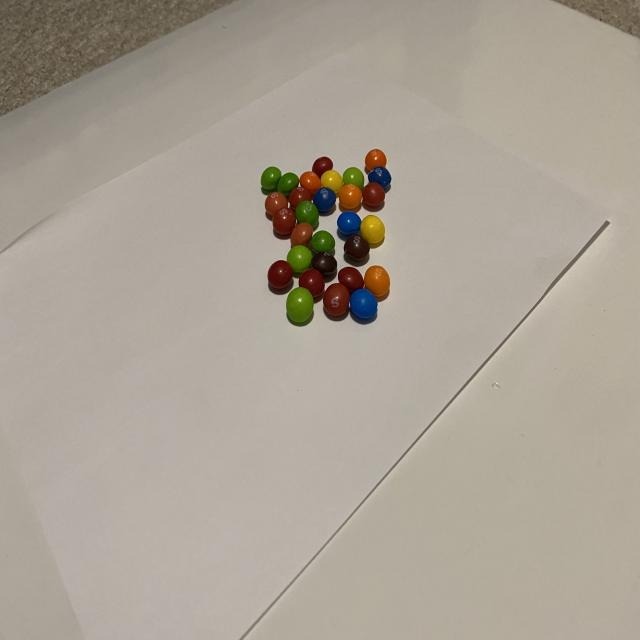smartie: (286, 287, 314, 323), (323, 282, 350, 316), (364, 265, 391, 297), (350, 288, 378, 318), (299, 268, 325, 297), (287, 244, 313, 273), (268, 259, 293, 288), (338, 266, 364, 293), (361, 214, 385, 243), (344, 234, 370, 260), (272, 207, 296, 234), (295, 200, 319, 227), (337, 211, 362, 235), (311, 251, 337, 274), (339, 183, 362, 209), (362, 181, 385, 206), (321, 169, 344, 194), (289, 185, 312, 209), (313, 186, 336, 210), (368, 166, 392, 189), (265, 191, 288, 215), (290, 222, 313, 246), (277, 172, 299, 197), (299, 171, 322, 194), (311, 230, 335, 252), (260, 166, 282, 190), (343, 166, 365, 189), (365, 148, 387, 170), (312, 156, 333, 177)
